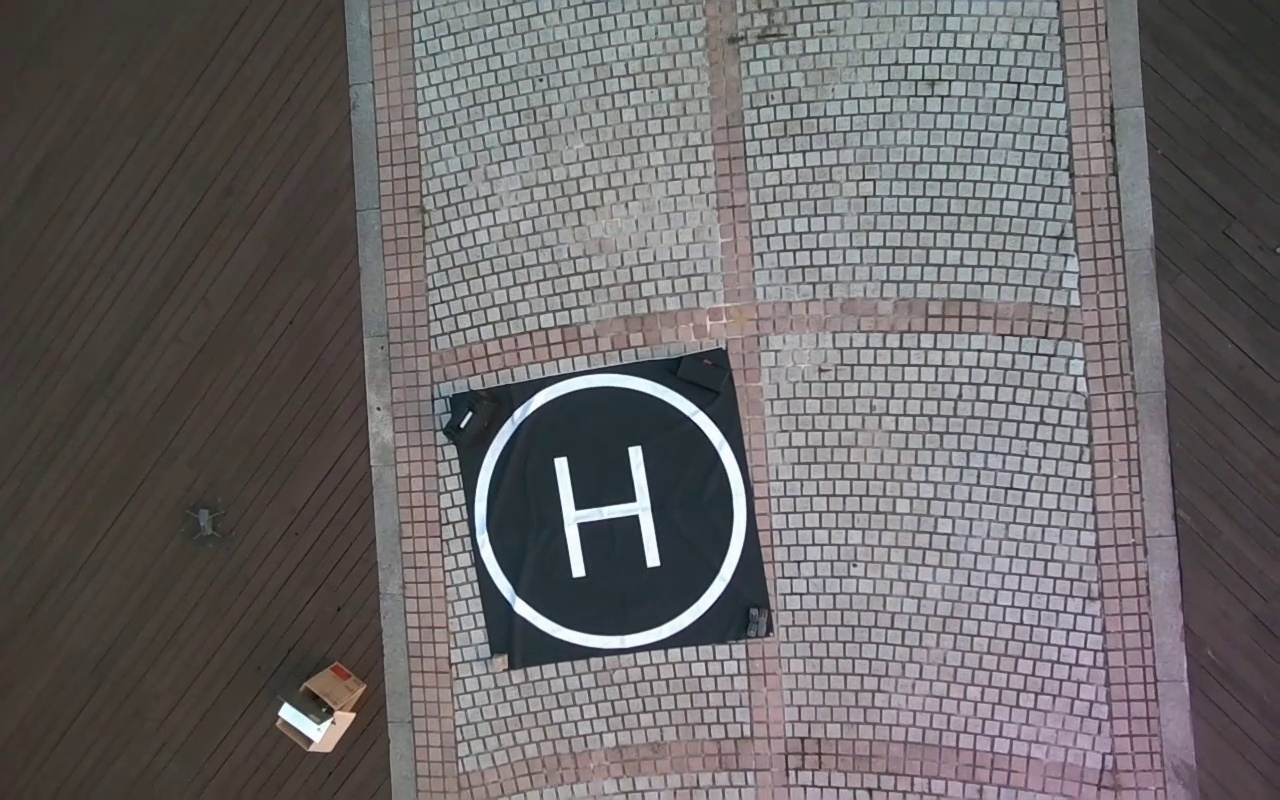H: (550, 444, 663, 577)
heliport: (475, 374, 750, 648)
